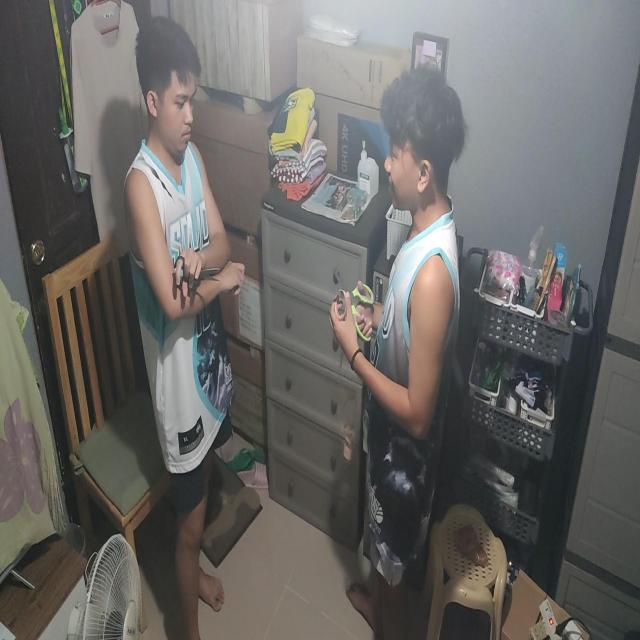scissor: (332, 272, 377, 343), (170, 252, 220, 292)
